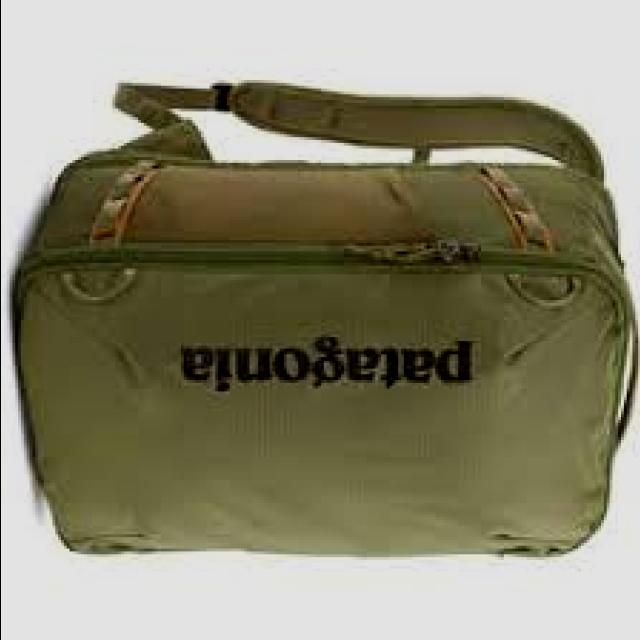backpack: (13, 78, 640, 558)
